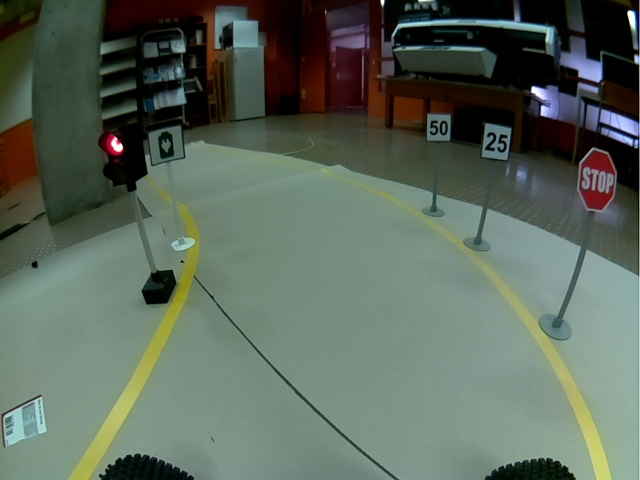battery: (149, 124, 186, 167)
speed25: (480, 122, 512, 162)
speed50: (426, 113, 452, 142)
stop: (577, 147, 617, 213)
trafficLightRed: (96, 122, 148, 186)
